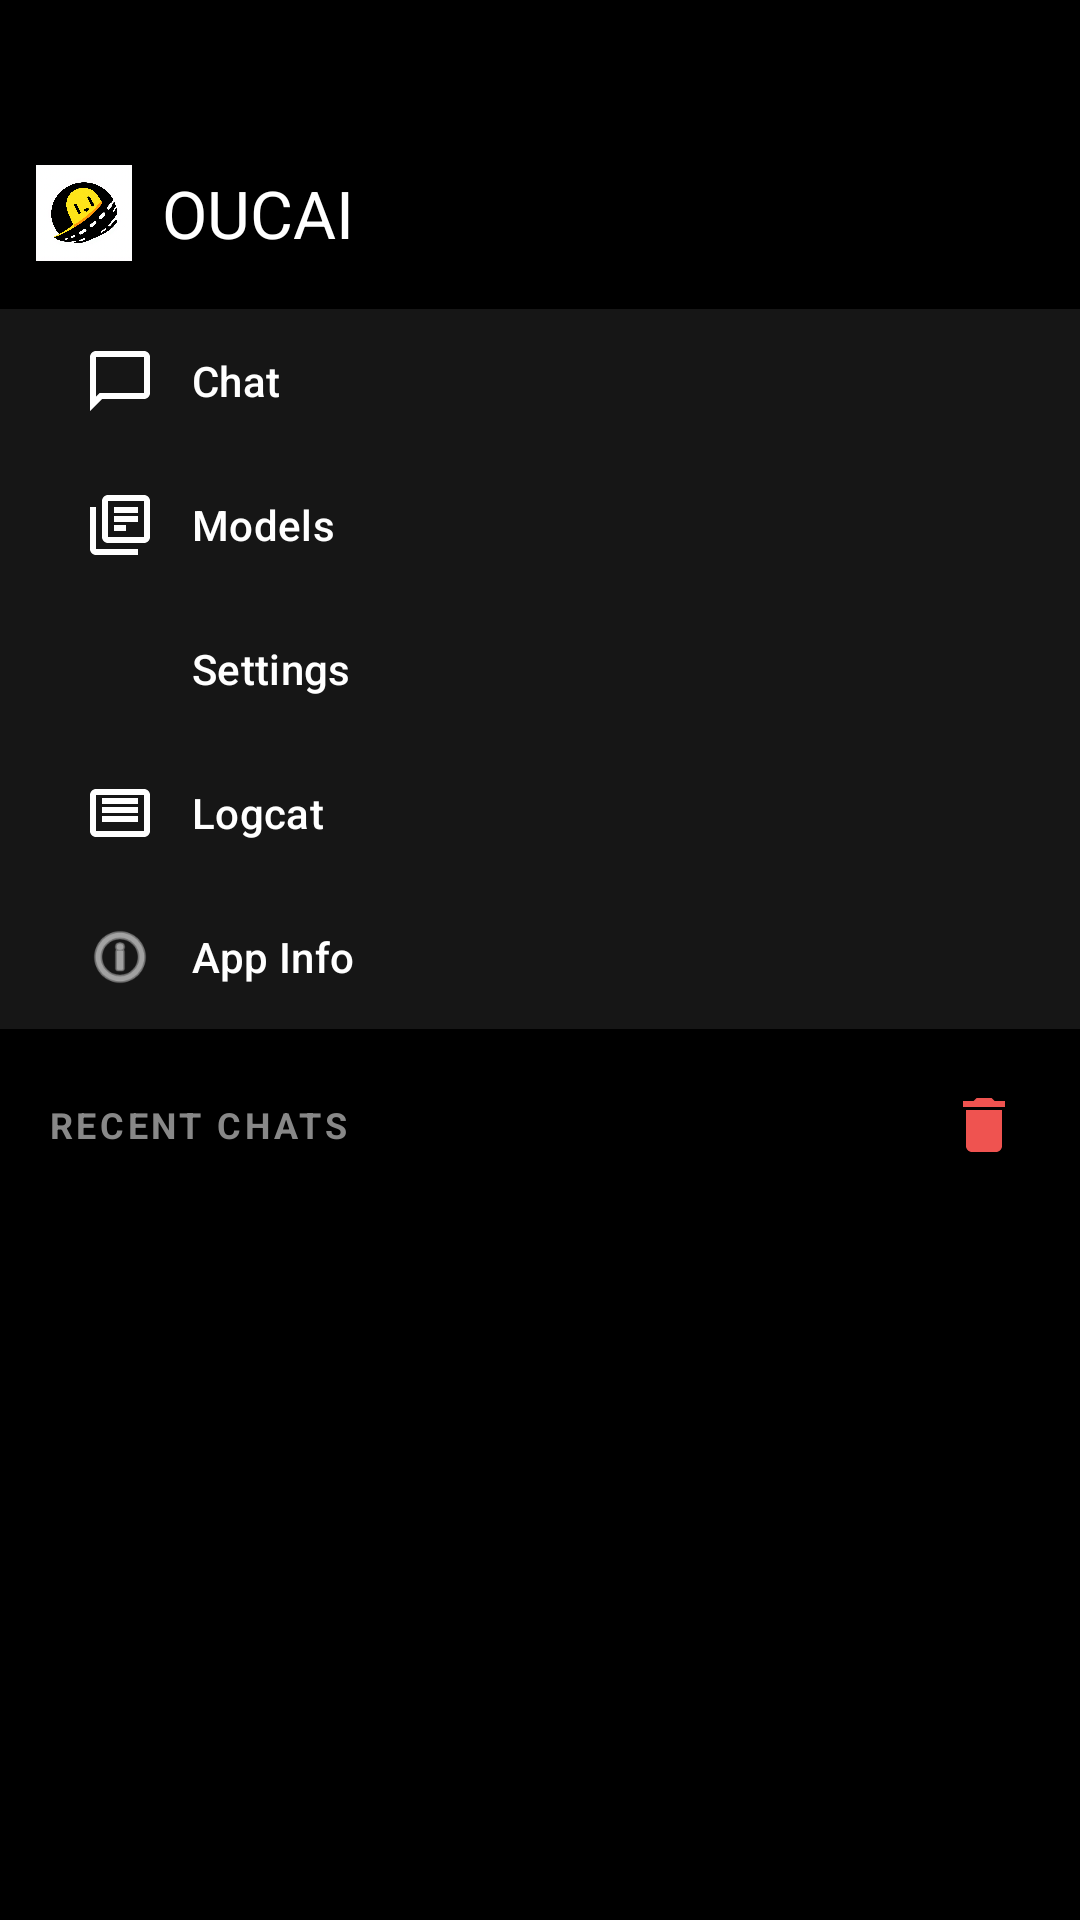

Icon bounding boxes for this 1080×1920 phone screenshot, format bbox=[x1, y1, x2, y2]:
Delete all conversations: bbox=[963, 1098, 1005, 1152]
